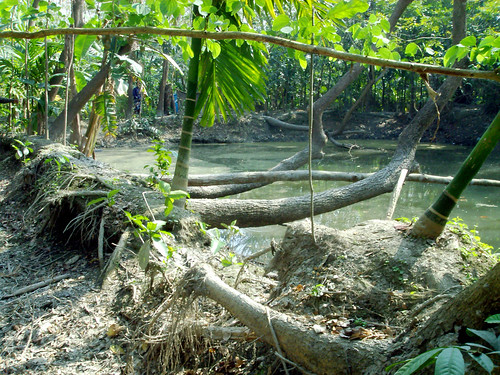river: (90, 136, 495, 230)
vegetation: (1, 1, 500, 113)
